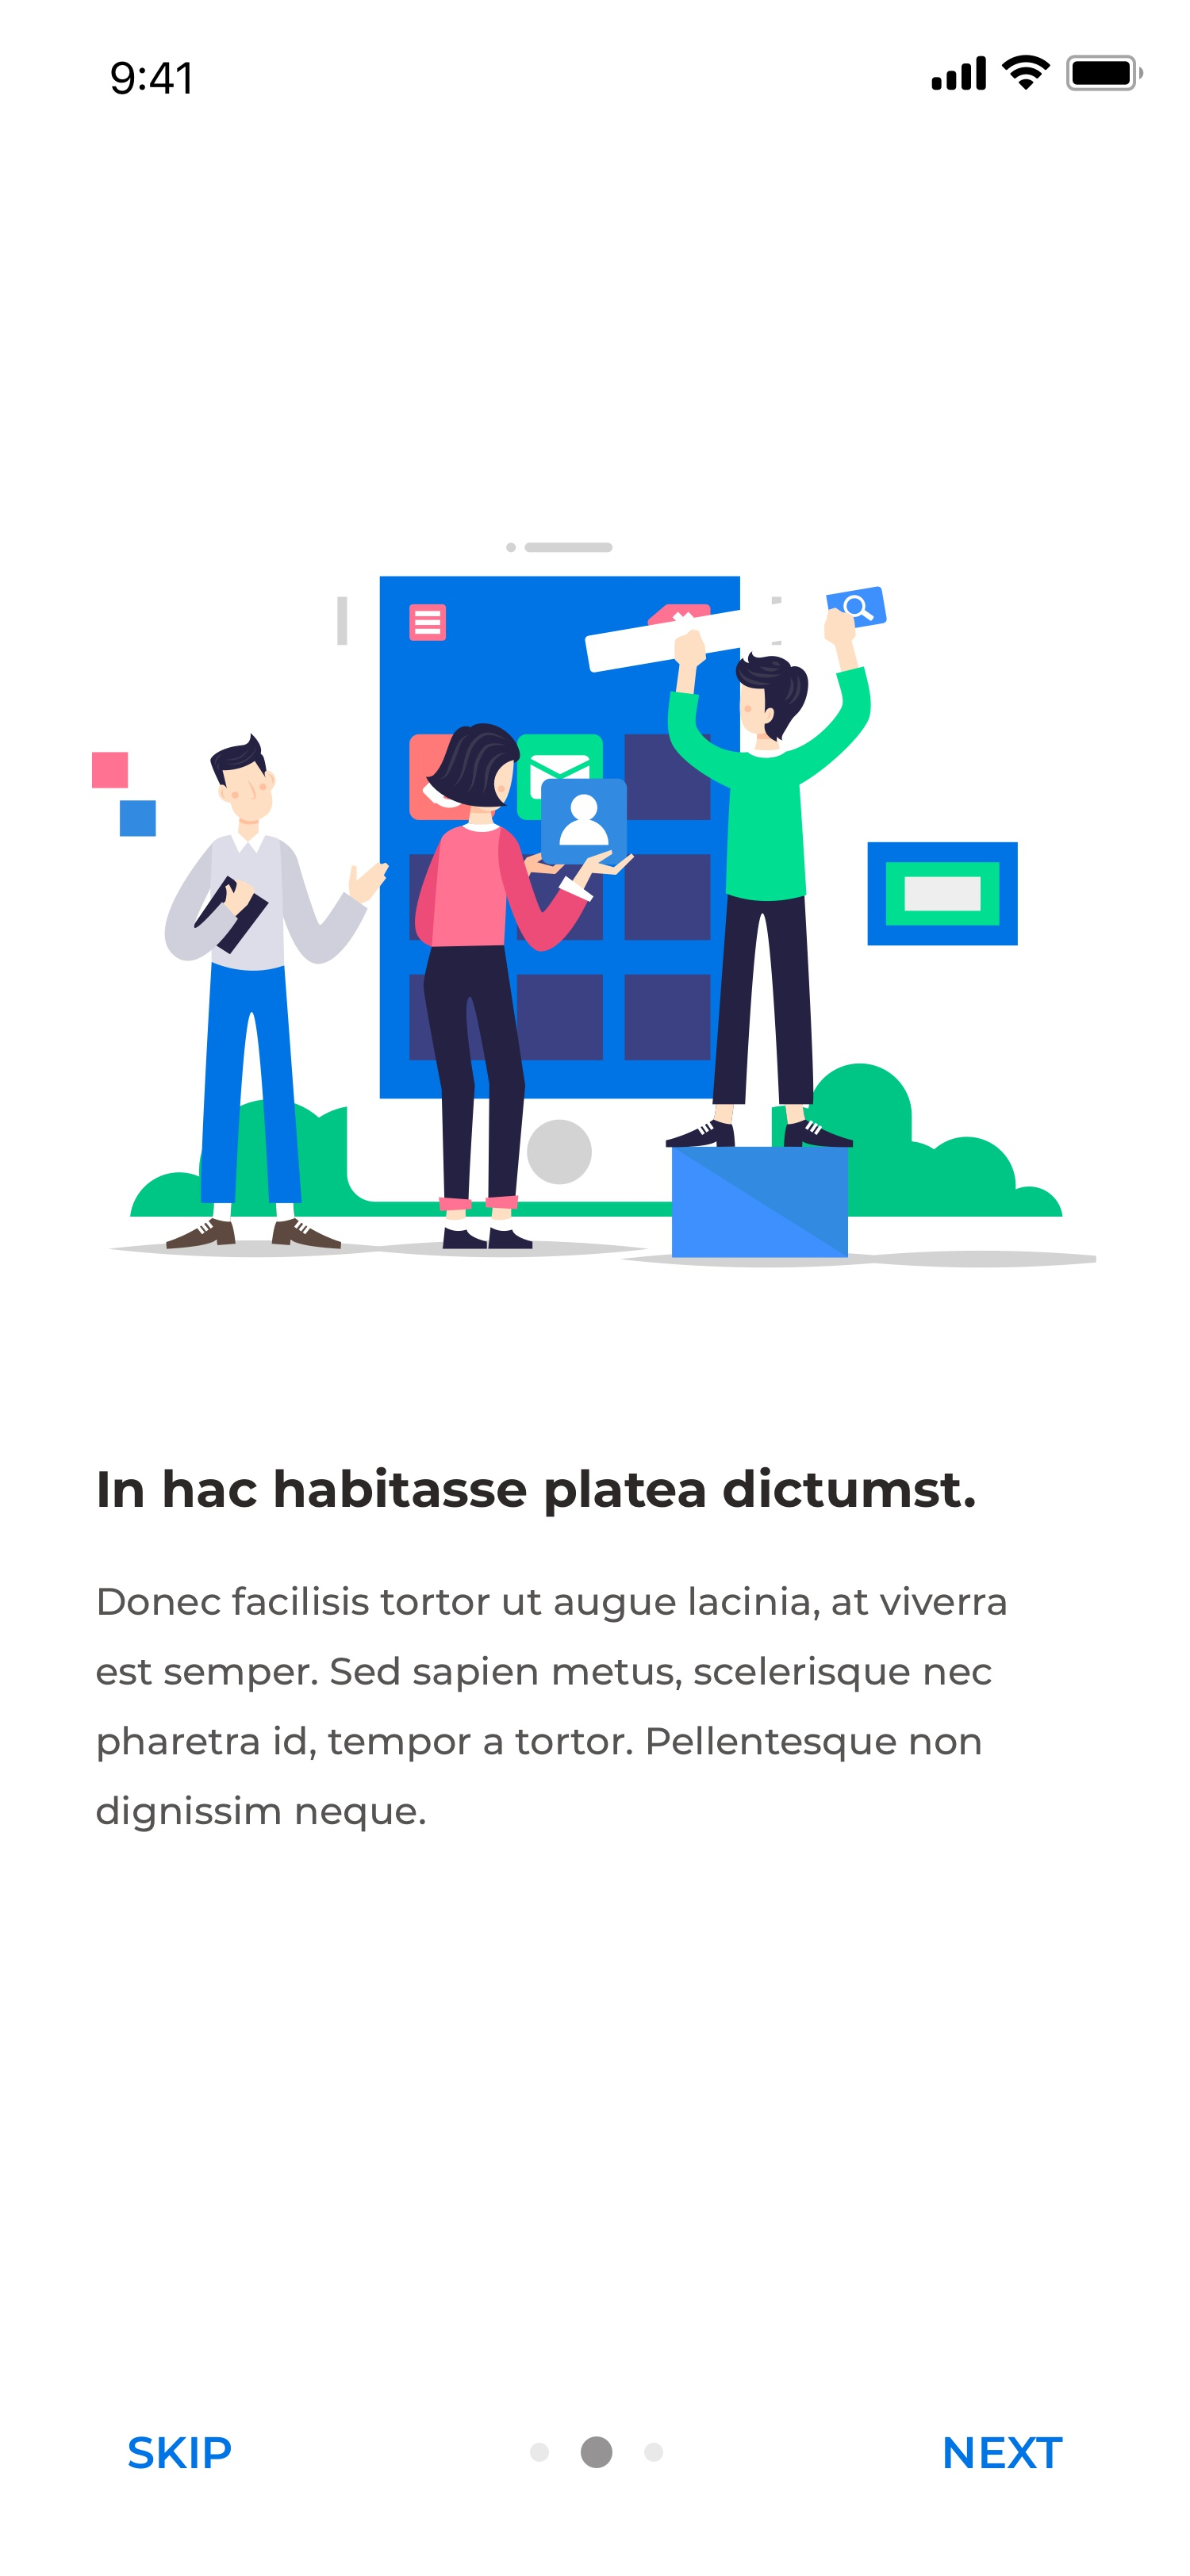Image: (92, 541, 1098, 1268)
PageIndicator: (529, 2435, 664, 2469)
Text: (97, 1585, 1008, 1833), (99, 1465, 976, 1518), (943, 2436, 1063, 2469), (128, 2436, 232, 2469)
UpperTaskBar: (112, 54, 1144, 95)
